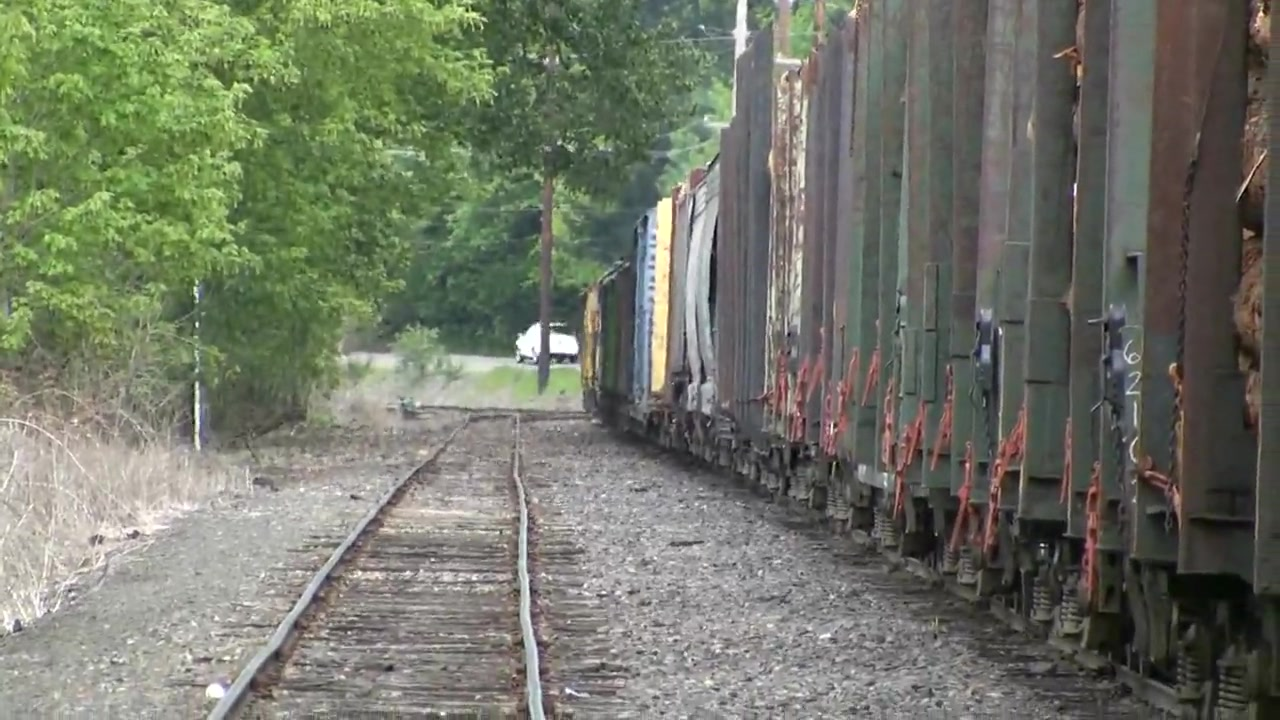train: (579, 1, 1280, 720)
